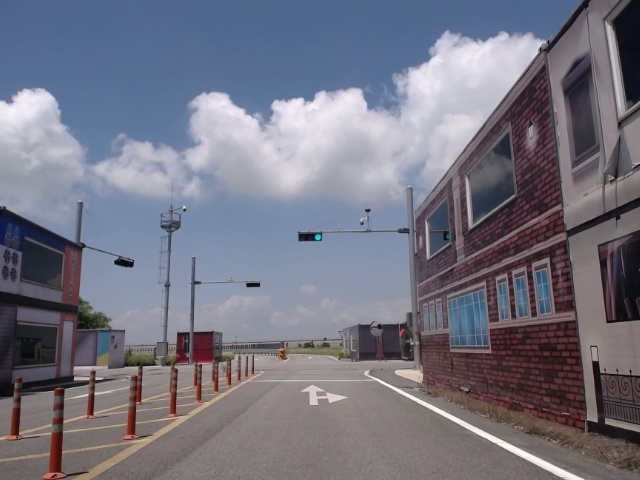green_3: (299, 233, 322, 240)
